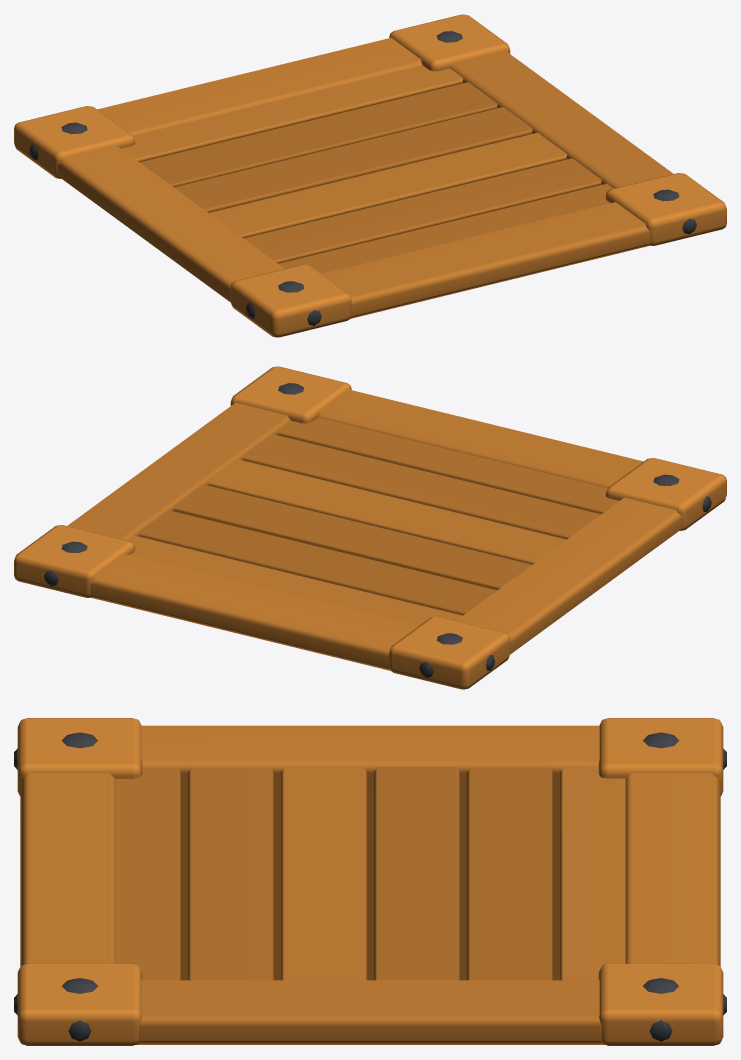
Rendered from floor_wood.glb.
3 renders of one model, top to bottom at view 1: azimuth 30°, elevation 25°; view 2: azimuth 150°, elevation 25°; view 3: azimuth 270°, elevation 25°, orthographic. The views are drawn at different scales.
Parts seen in each view (by area): view 1: floor_wood; view 2: floor_wood; view 3: floor_wood.
Part boxes in pixels (x1,y1,x2,y2): floor_wood: (14,14,726,337); floor_wood: (14,366,726,689); floor_wood: (14,718,726,1045).
Size of the model in its own units: 4 by 0.25 by 4.
